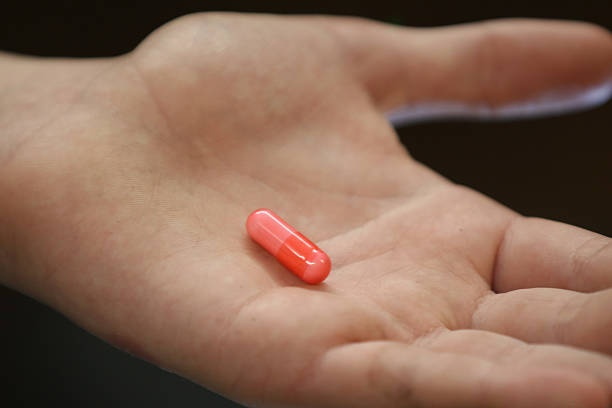pills: (242, 206, 332, 283)
